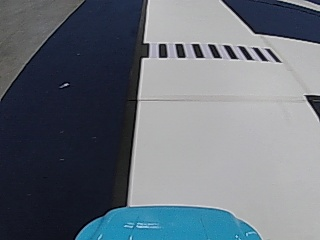CrossWalk: (145, 42, 273, 61)
